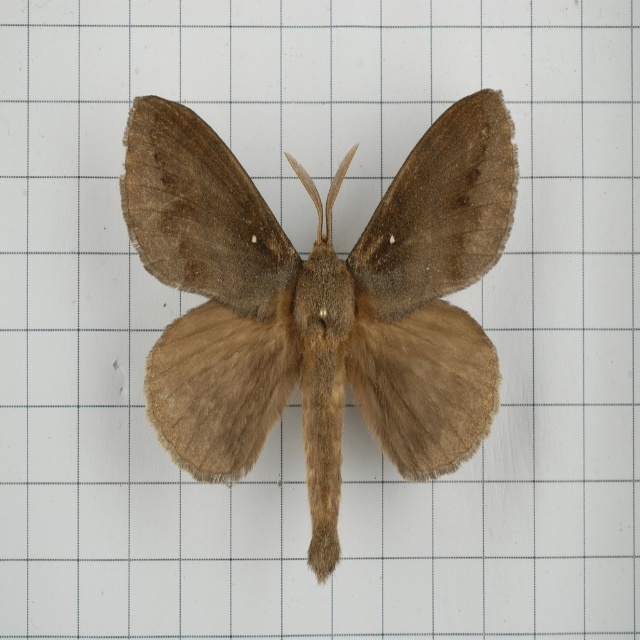Butterfly: (121, 89, 519, 583)
